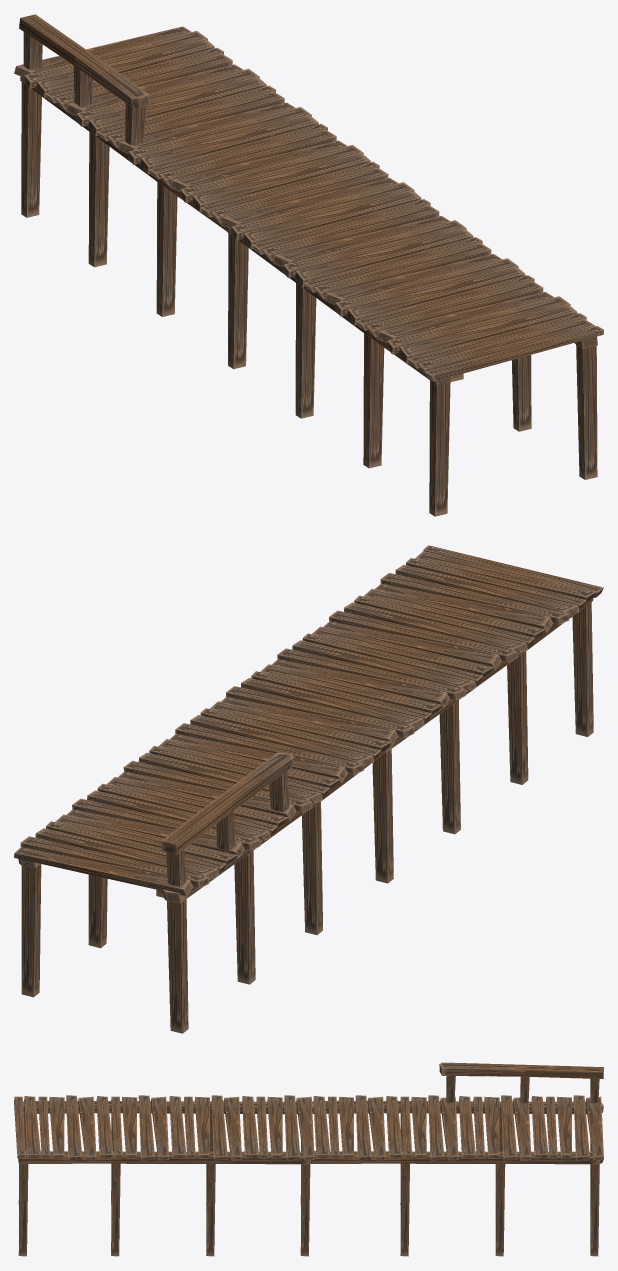
The model's file is pierC.fbx.
The picture shows the model from 3 angles, top to bottom: view 1: azimuth 30°, elevation 25°; view 2: azimuth 150°, elevation 25°; view 3: azimuth 270°, elevation 25°; orthographic projection. The views are drawn at different scales.
Visible parts, largest first — view 1: pierC; view 2: pierC; view 3: pierC.
Part boxes in pixels (bbox=[...]): pierC: bbox=[14, 14, 603, 516]; pierC: bbox=[14, 545, 603, 1033]; pierC: bbox=[14, 1062, 603, 1256].
Size of the model in its own units: 308 by 324 by 1251.
Materials: 1 (1 with a texture image).
